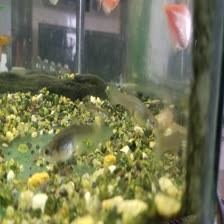Guppy: (33, 115, 113, 172), (99, 80, 159, 131)
Plano: (157, 0, 199, 55)
